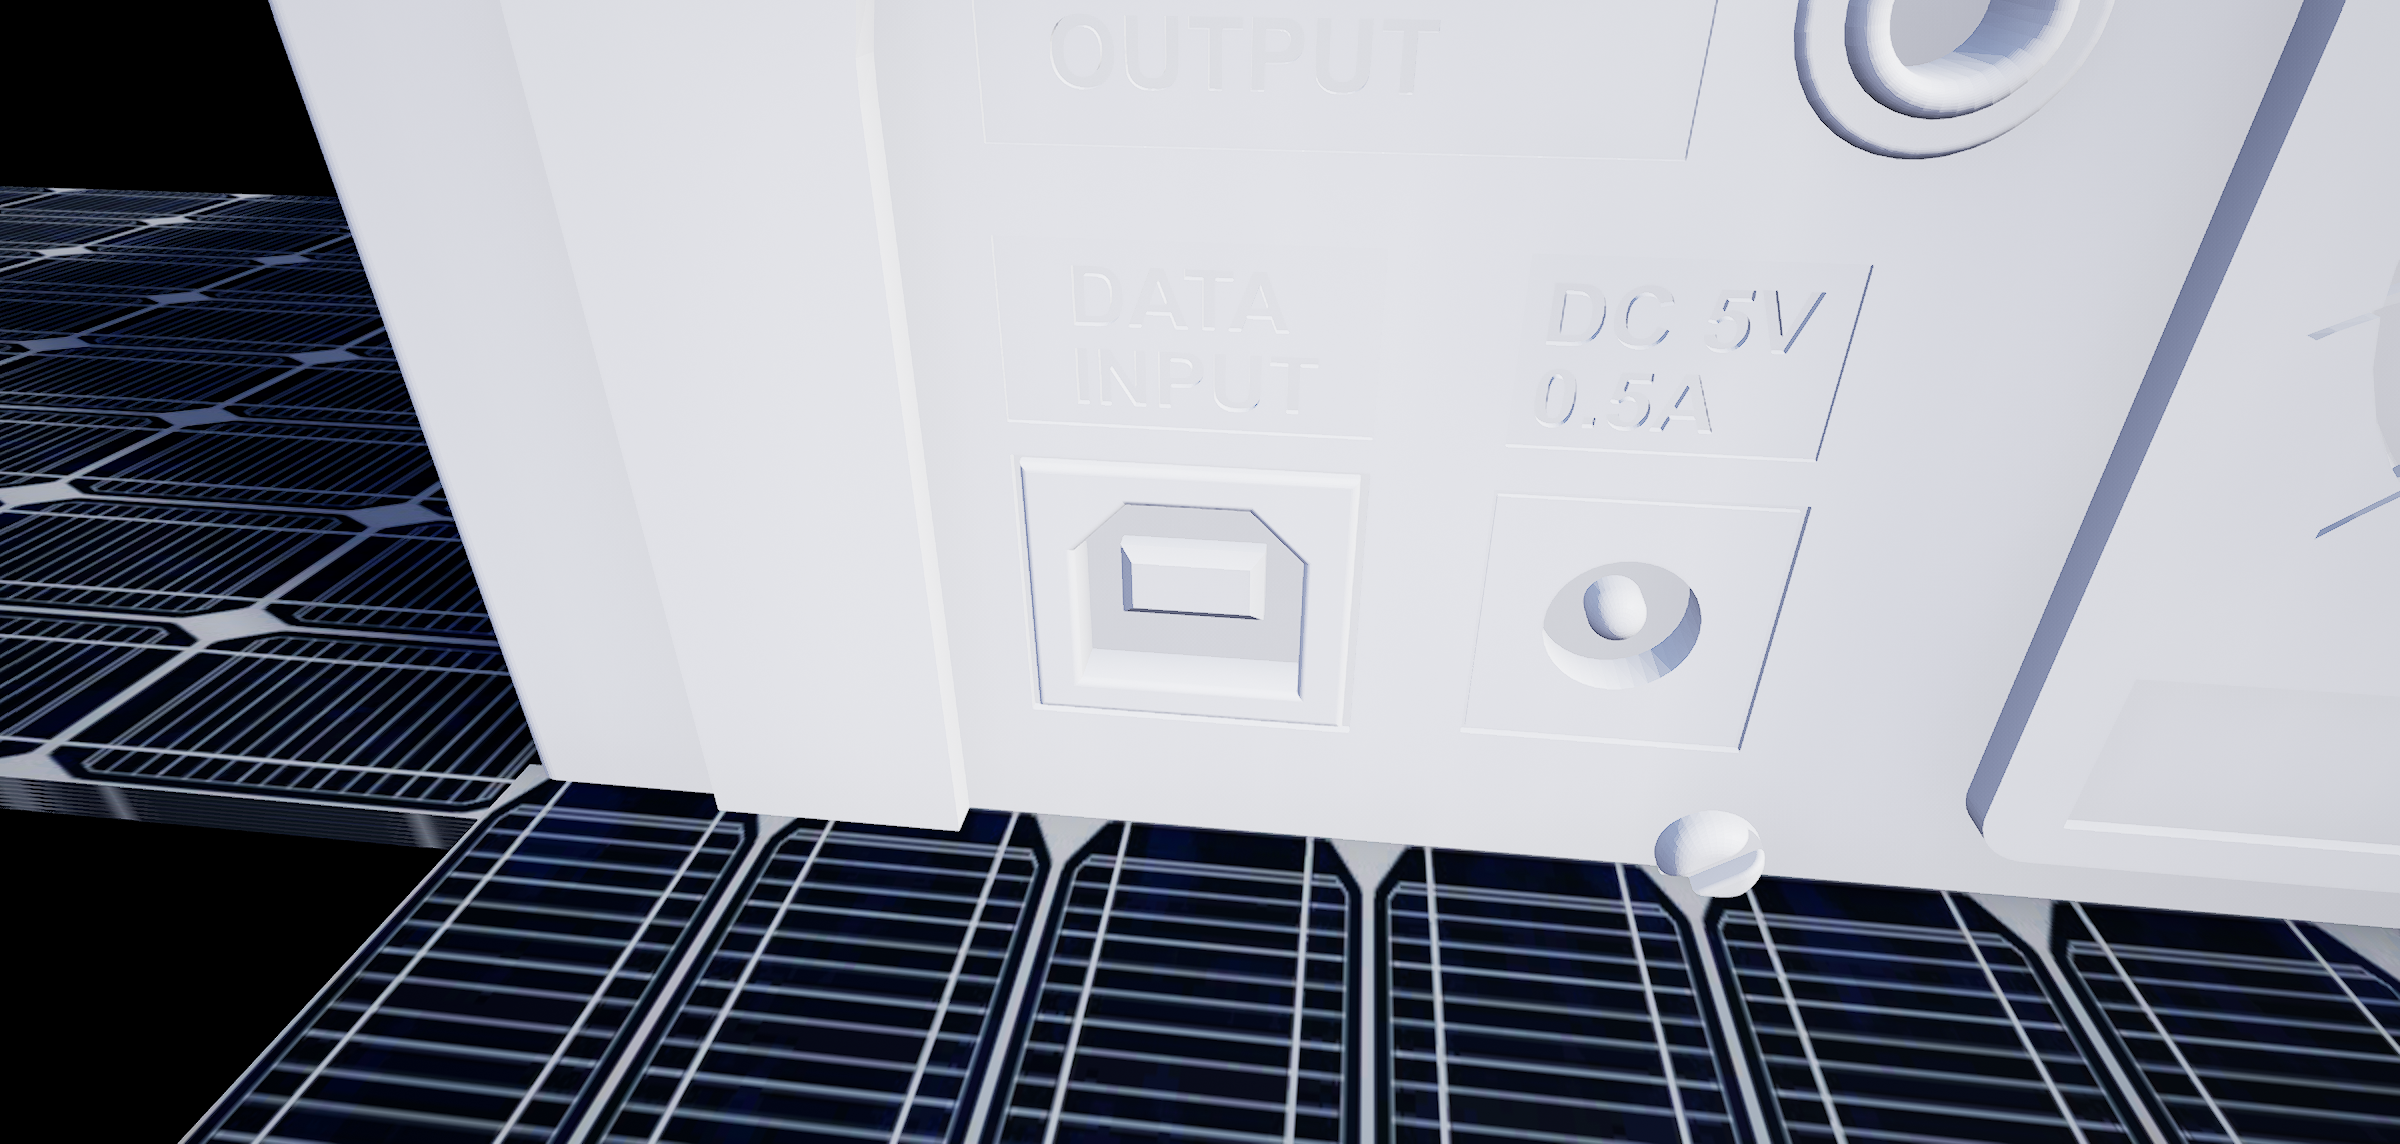dc: (1534, 548, 1717, 709)
usb: (1058, 493, 1313, 701)
